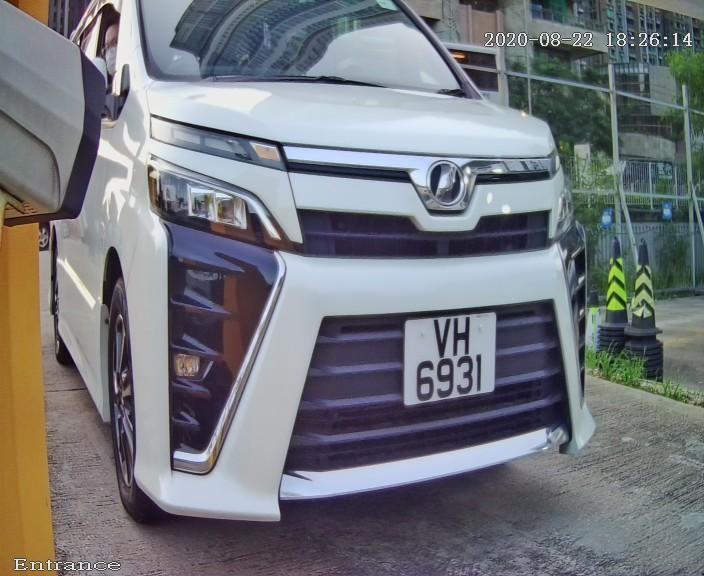License Plate: (393, 299, 503, 425)
